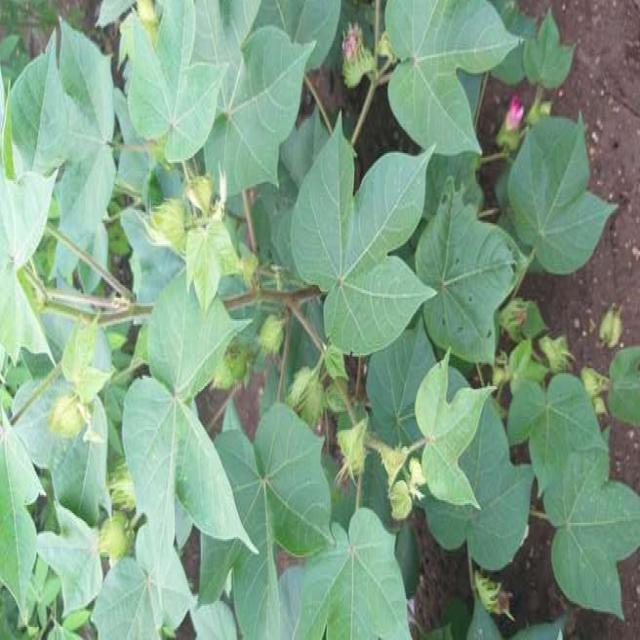Healthy Leaf: (0, 1, 640, 637)
